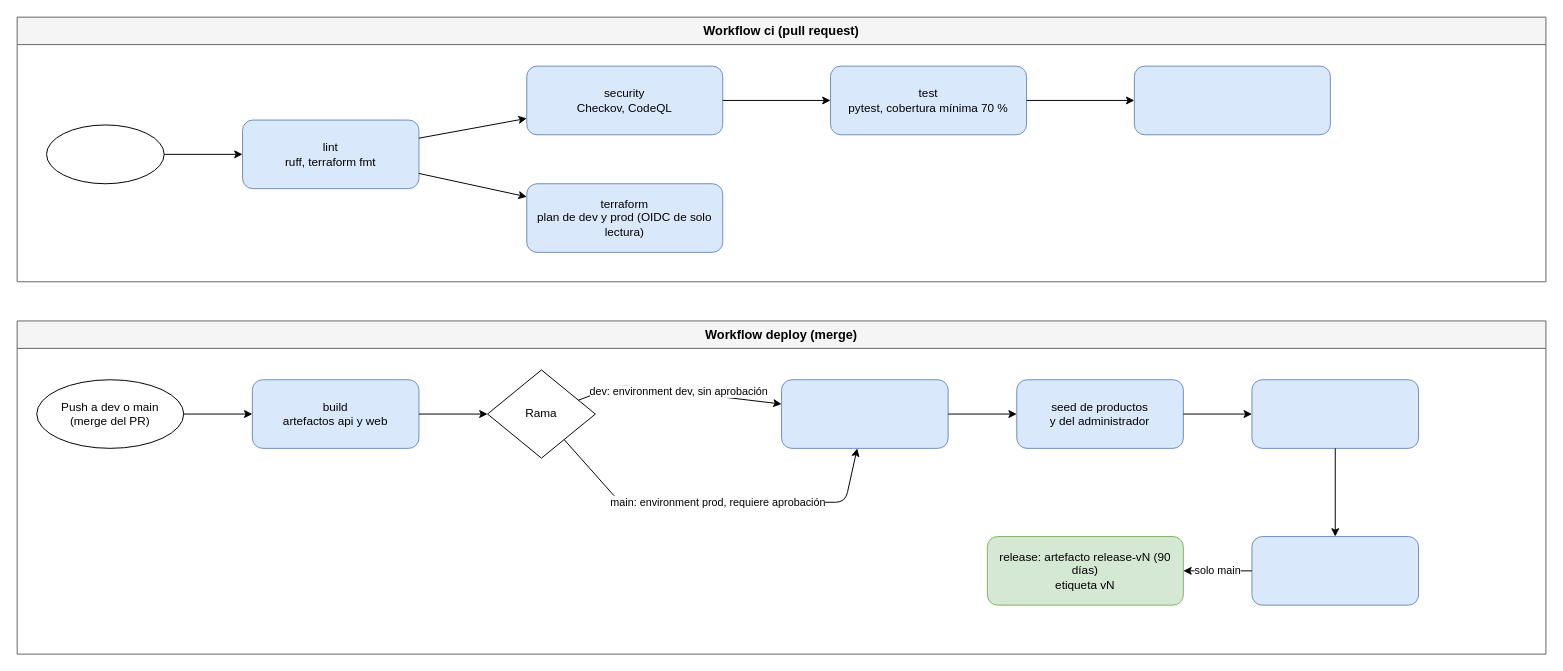
The diagram is 1563 pixels wide and 671 high, and some of its shapes have lost their labels. The centre of each missing label's shape, as x and y in pixels:
"build empaqueta api/ y web/" goes at [1231,100].
"deploy: login OIDC terraform apply" goes at [864,413].
"Pull request" goes at [105,154].
"smoke: espera /api/health colección Bruno" goes at [1335,570].
"sube web y api a SWA" goes at [1335,413].
